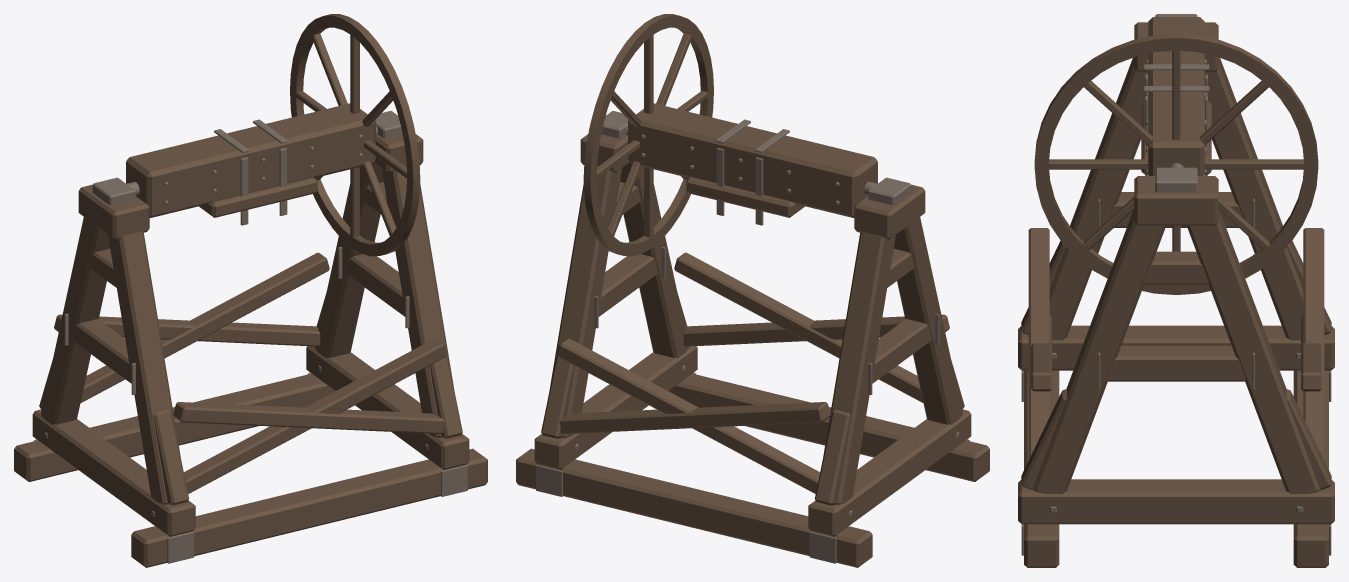
Rendered from bell_frame.glb.
3 views of the same model, side by side, from view 1: azimuth 30°, elevation 25°; view 2: azimuth 150°, elevation 25°; view 3: azimuth 270°, elevation 25° (orthographic). The views are drawn at different scales.
Parts seen in each view (by area): view 1: bell_frame, bell_headstock; view 2: bell_frame, bell_headstock; view 3: bell_frame, bell_headstock.
Boxes of the visible parts, x1,y1,x2,y2 form: bell_frame: (14, 111, 487, 567); bell_headstock: (126, 14, 420, 256); bell_frame: (516, 111, 989, 567); bell_headstock: (583, 14, 877, 256); bell_frame: (1018, 14, 1334, 567); bell_headstock: (1034, 17, 1318, 294).
Size of the model in its own units: 3.9 by 4.66 by 2.7.
